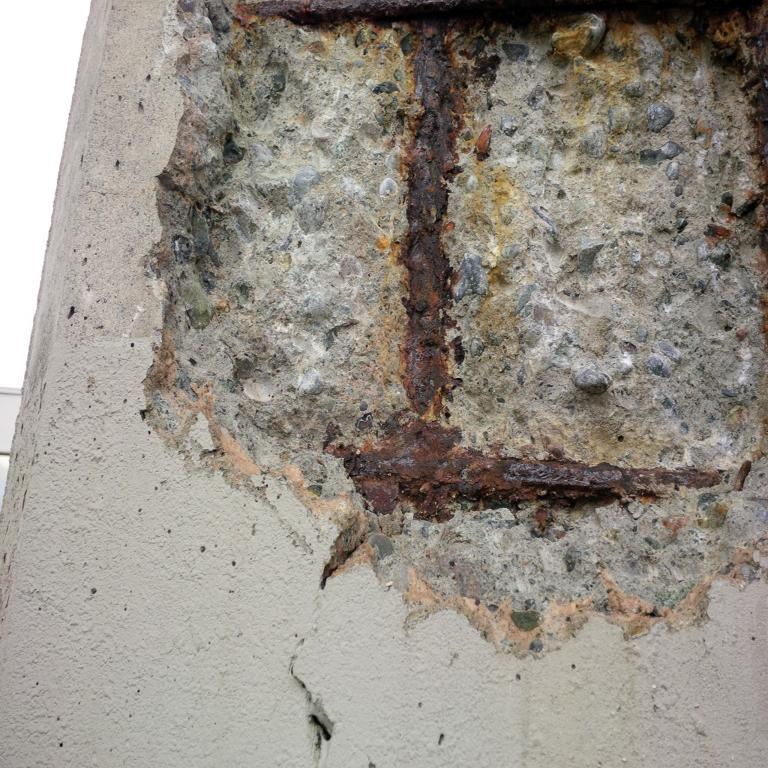spalling: (146, 0, 768, 659), (344, 22, 718, 500)
